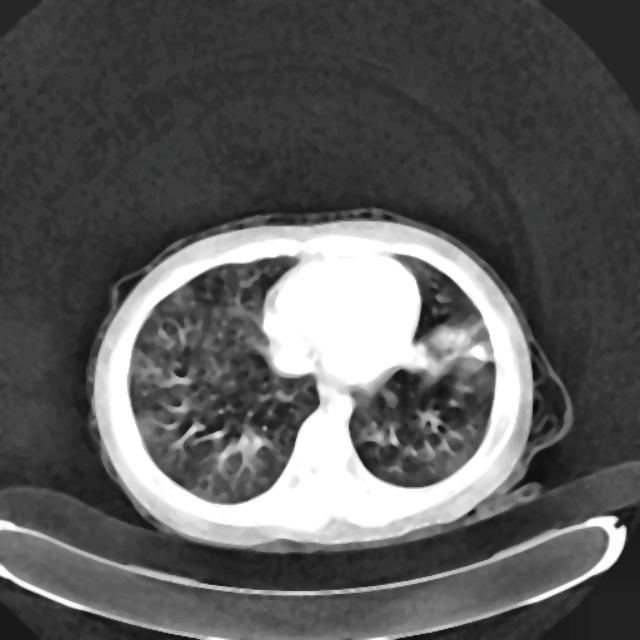covid: (84, 206, 564, 553)
